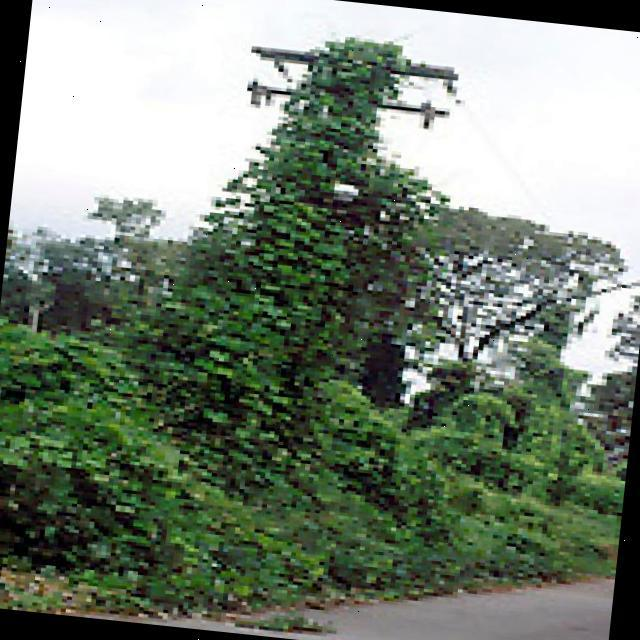critical vegetation: (192, 18, 475, 237)
